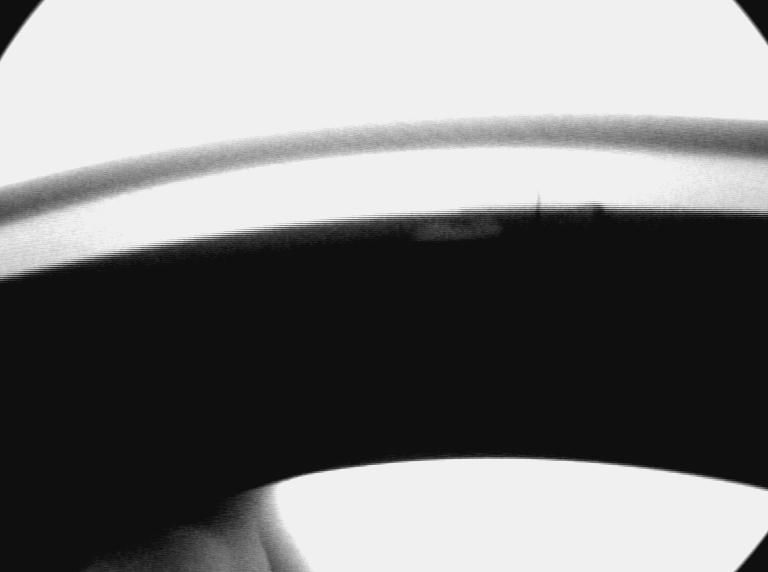defect: (414, 214, 510, 246)
